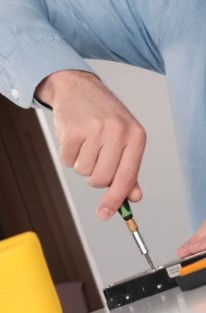screwdriver: (89, 140, 155, 269)
